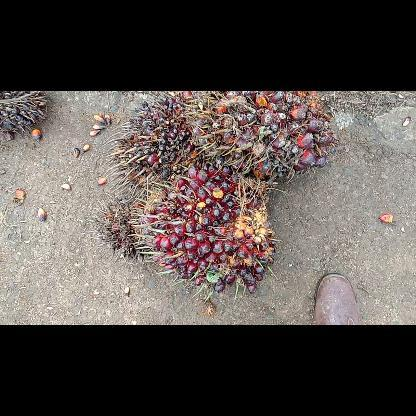TBS abnormal: (102, 93, 200, 194), (84, 192, 150, 266)
TBS masak: (128, 159, 283, 295), (186, 91, 336, 189)
